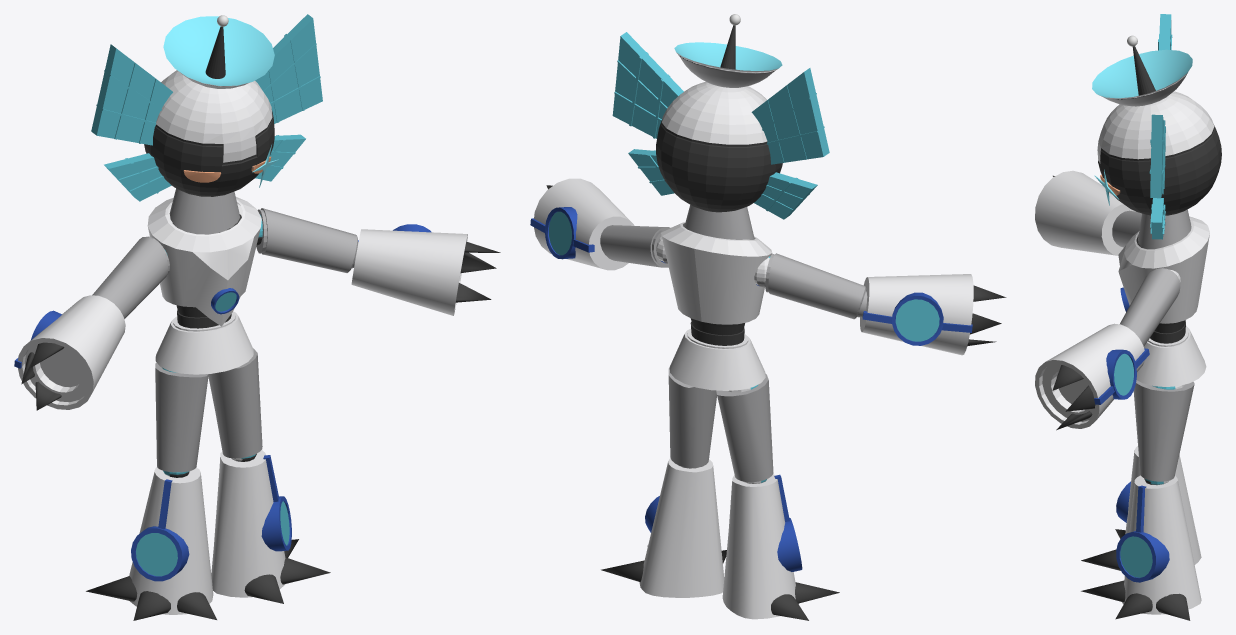
The model's file is Robot_Test.fbx.
3 views of the same model, side by side, from view 1: azimuth 30°, elevation 25°; view 2: azimuth 150°, elevation 25°; view 3: azimuth 270°, elevation 25° (orthographic). The views are drawn at different scales.
Visible parts, largest first — view 1: polySurface190, polySurface234, polySurface276, polySurface242, polySurface267, polySurface251, polySurface195, polySurface256, polySurface214, polySurface262, polySurface279, polySurface247 (+14 smaller); view 2: polySurface190, polySurface242, polySurface234, polySurface251, polySurface267, polySurface256, polySurface214, polySurface276, polySurface262, polySurface270, polySurface188, polySurface247 (+9 smaller); view 3: polySurface190, polySurface267, polySurface242, polySurface276, polySurface234, polySurface247, polySurface195, polySurface262, polySurface279, polySurface243, polySurface235, polySurface251 (+15 smaller).
Boxes of the visible parts, x1,y1,x2,y2 form: polySurface190: [144, 70, 274, 196]; polySurface234: [147, 197, 261, 326]; polySurface276: [351, 229, 467, 315]; polySurface242: [211, 450, 285, 597]; polySurface267: [18, 295, 125, 409]; polySurface251: [129, 467, 213, 614]; polySurface195: [163, 16, 274, 88]; polySurface256: [155, 362, 208, 472]; polySurface214: [91, 44, 172, 145]; polySurface262: [155, 311, 253, 374]; polySurface279: [256, 208, 357, 272]; polySurface247: [208, 348, 262, 458]; polySurface190: [656, 81, 782, 212]; polySurface242: [639, 458, 724, 597]; polySurface234: [661, 222, 772, 324]; polySurface251: [722, 474, 798, 619]; polySurface267: [860, 274, 973, 355]; polySurface256: [716, 373, 773, 482]; polySurface214: [751, 68, 829, 164]; polySurface276: [534, 178, 634, 270]; polySurface262: [669, 329, 765, 390]; polySurface270: [765, 253, 866, 319]; polySurface188: [612, 32, 683, 138]; polySurface247: [668, 367, 716, 467]; polySurface190: [1097, 91, 1221, 215]; polySurface267: [1035, 170, 1135, 255]; polySurface242: [1122, 475, 1201, 614]; polySurface276: [1035, 323, 1144, 428]; polySurface234: [1118, 216, 1209, 323]; polySurface247: [1133, 380, 1194, 481]; polySurface195: [1092, 49, 1192, 106]; polySurface262: [1136, 325, 1206, 386]; polySurface279: [1120, 268, 1180, 346]; polySurface243: [1116, 531, 1169, 582]; polySurface235: [1138, 209, 1191, 249]; polySurface251: [1125, 446, 1201, 564].
Size of the model in its own units: 4.1 by 4.81 by 1.49.
Materials: 2 (1 with a texture image).
